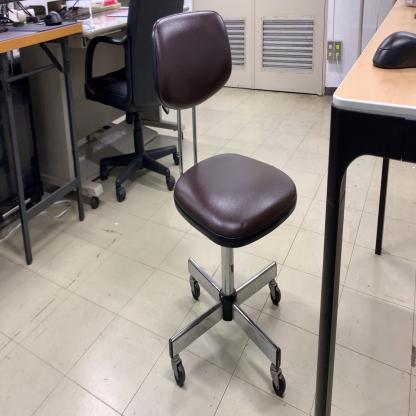chair: (150, 9, 300, 402), (84, 0, 188, 205)
